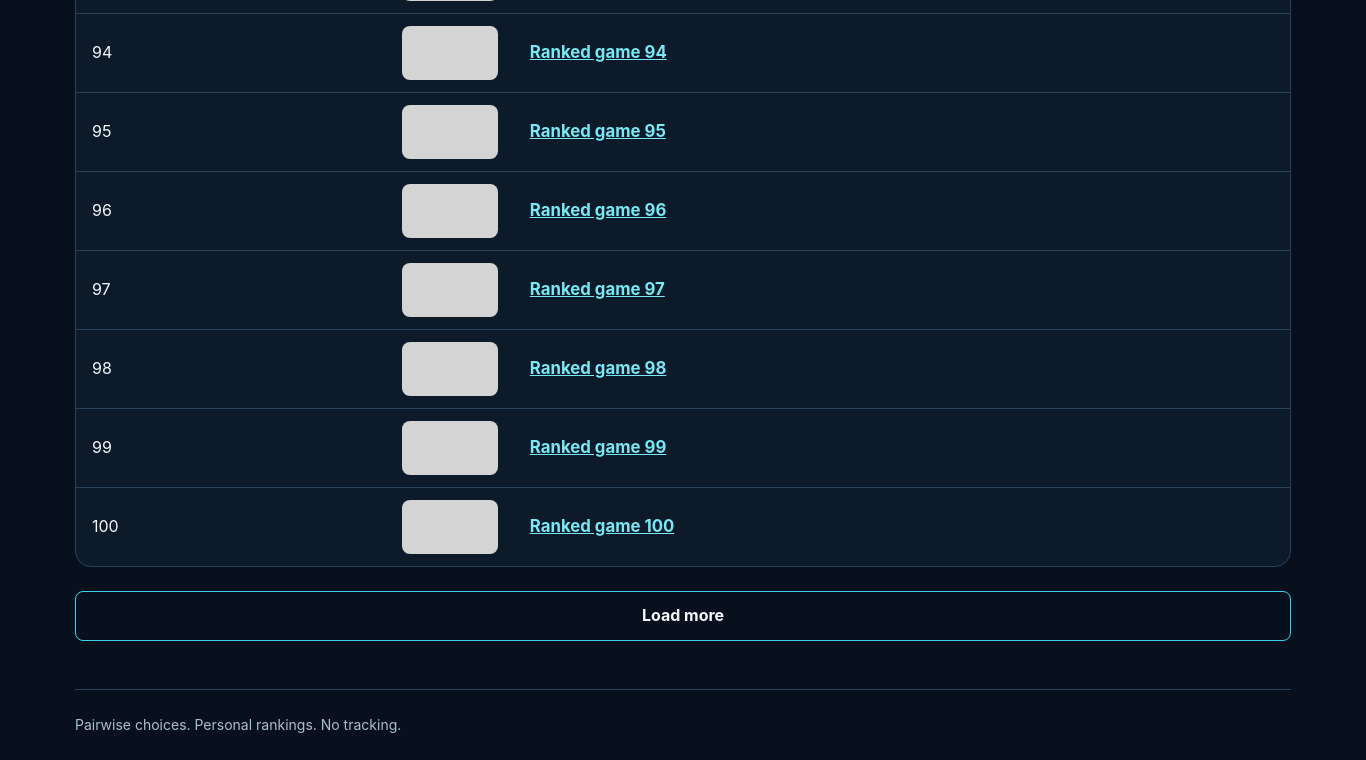
Steam friend leaderboards › renders a paginated friend ranking without owner-only fields
The image size is (1366, 760).
(page scrolled)
Check: the column heading "Ranked game 100" is shown, box [514,487,1290,566]
Click the button "Load more".
click(683, 616)  # box [75,591,1291,641]
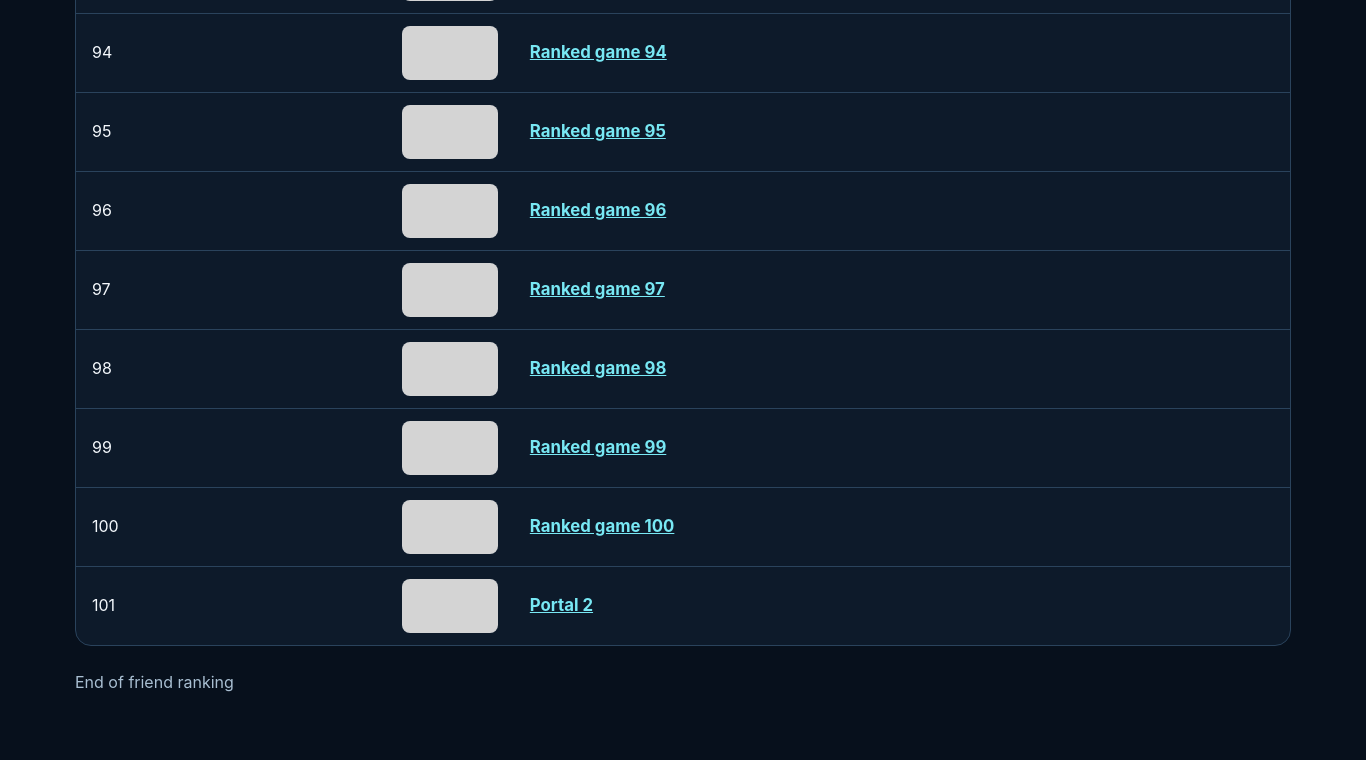
Check: the column heading "Portal 2" is shown, box [514,566,1290,645]
